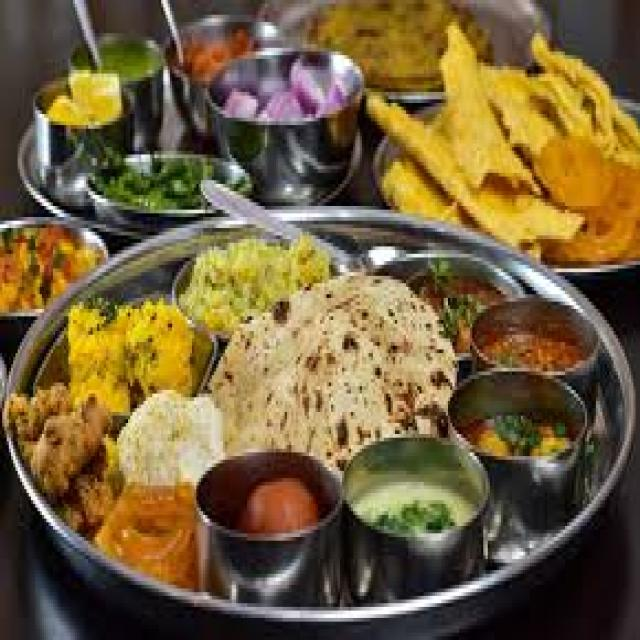DHOKLA: (68, 298, 210, 408)
ROTI: (210, 272, 455, 467)
